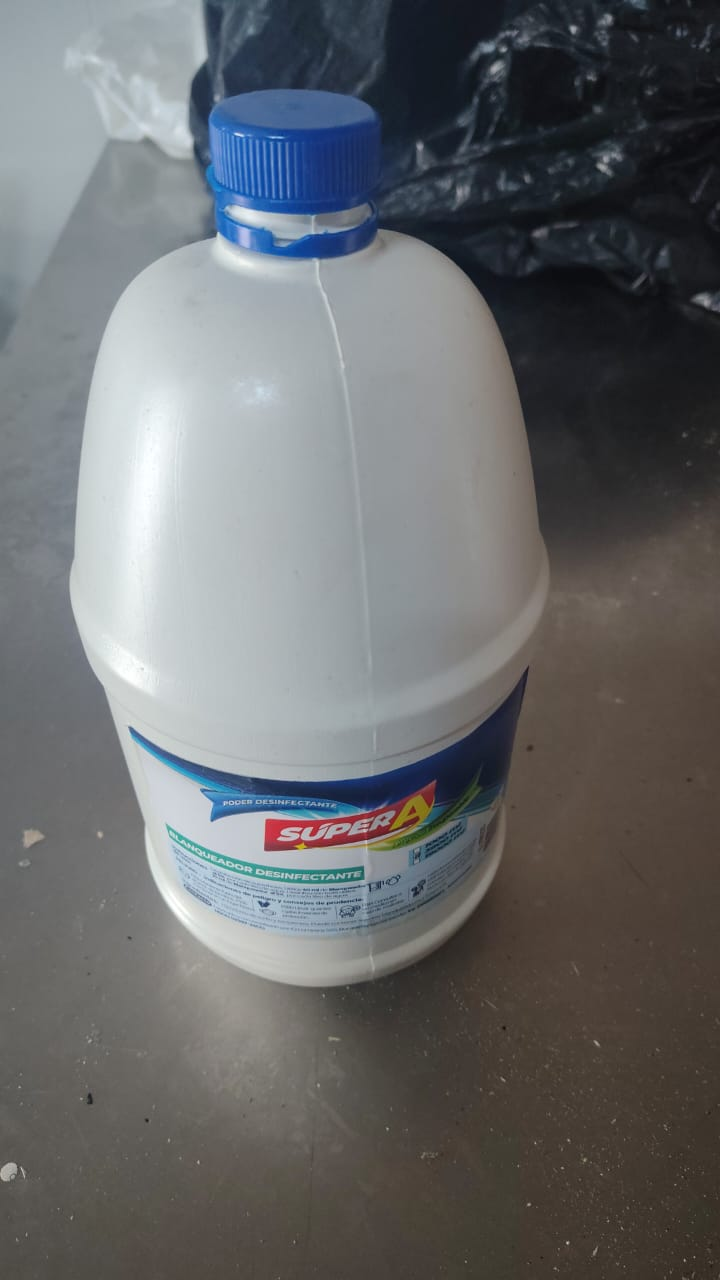Plastico: (66, 87, 548, 989)
